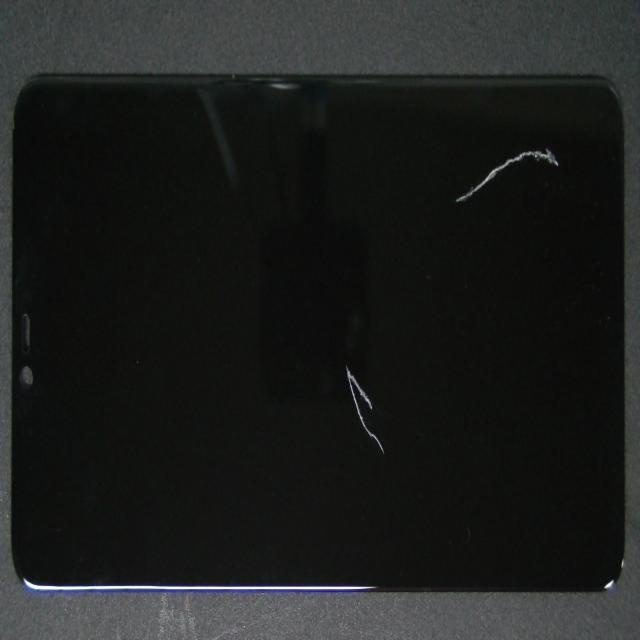scratch: (227, 279, 573, 618), (317, 21, 640, 212)
